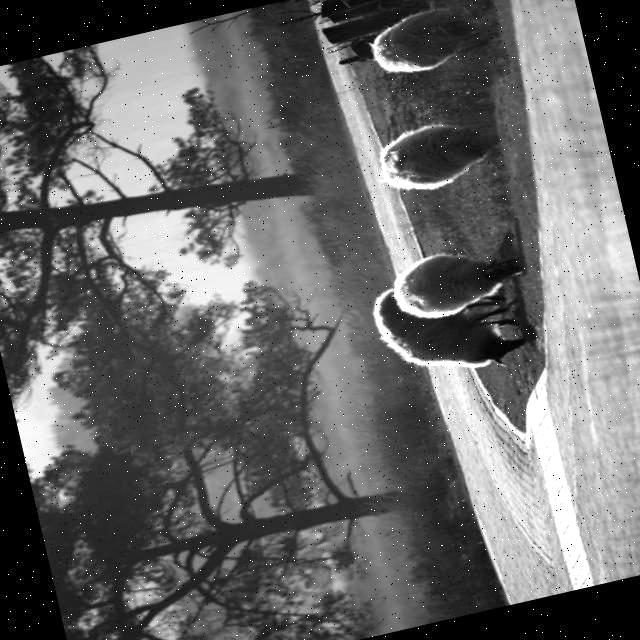sheep: (389, 253, 521, 318), (379, 123, 486, 190), (368, 10, 471, 73)
